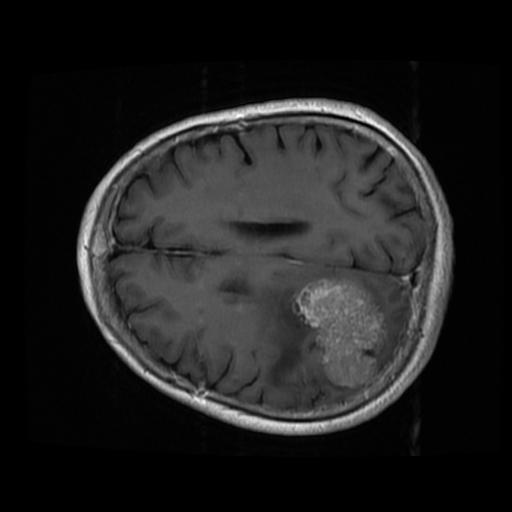meningioma: (294, 279, 384, 387)
